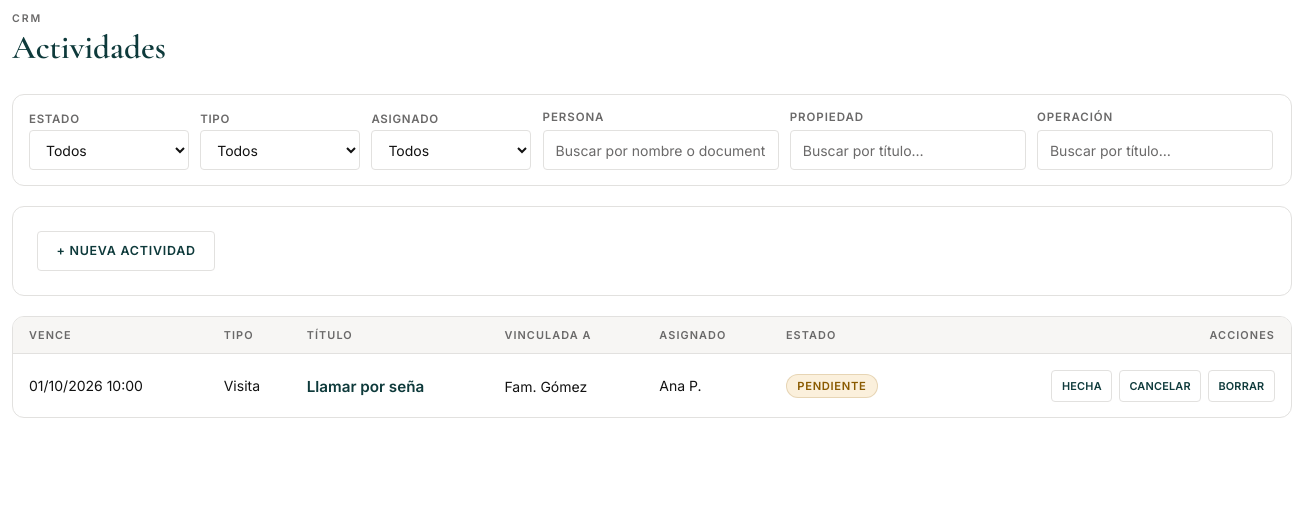
marcar hecha muestra el error de la API y deja la fila como estaba
Click the button "Hecha" at (1082, 386), box [1051,370,1112,402]
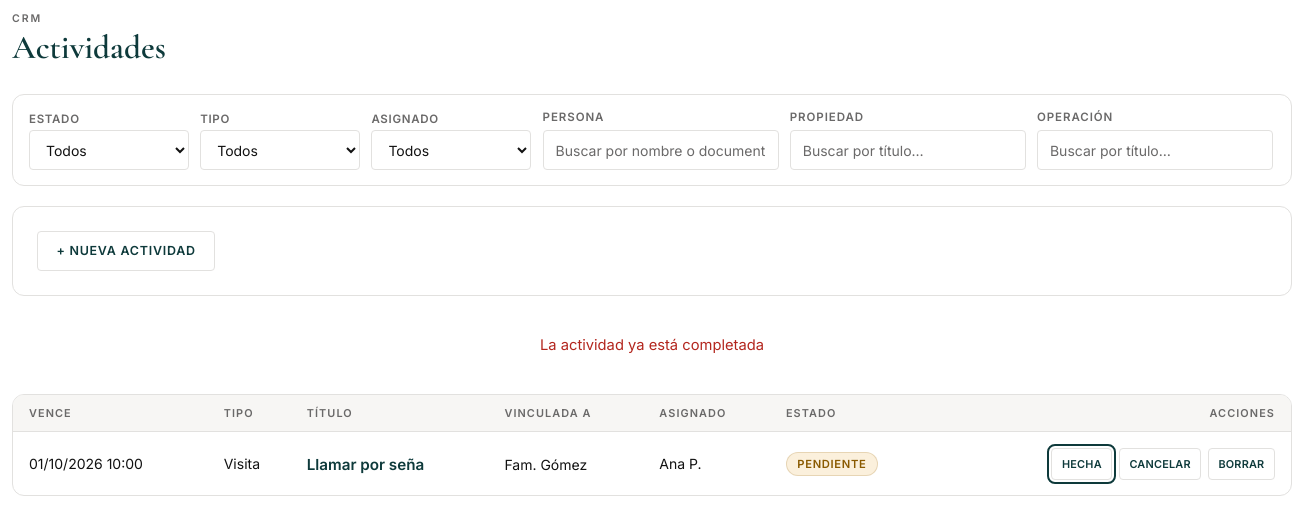
expect the button "Hecha" is shown: met, box [1051,448,1112,480]
expect the message reads "La actividad ya está completada": met, box [540,336,764,354]
